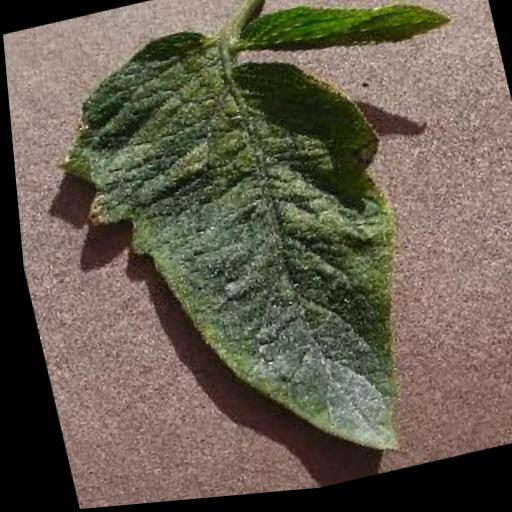Spider Mites: (24, 0, 437, 510)
